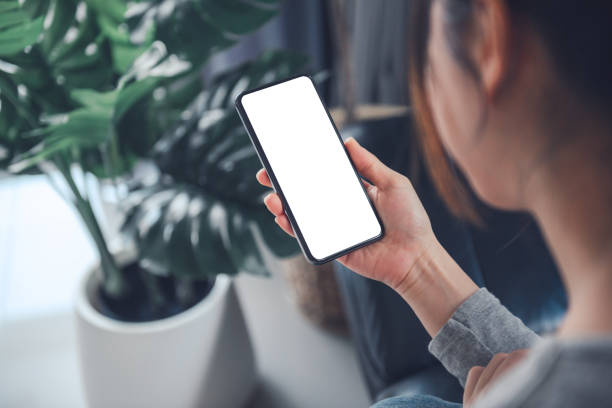without mask: (383, 1, 580, 220)
